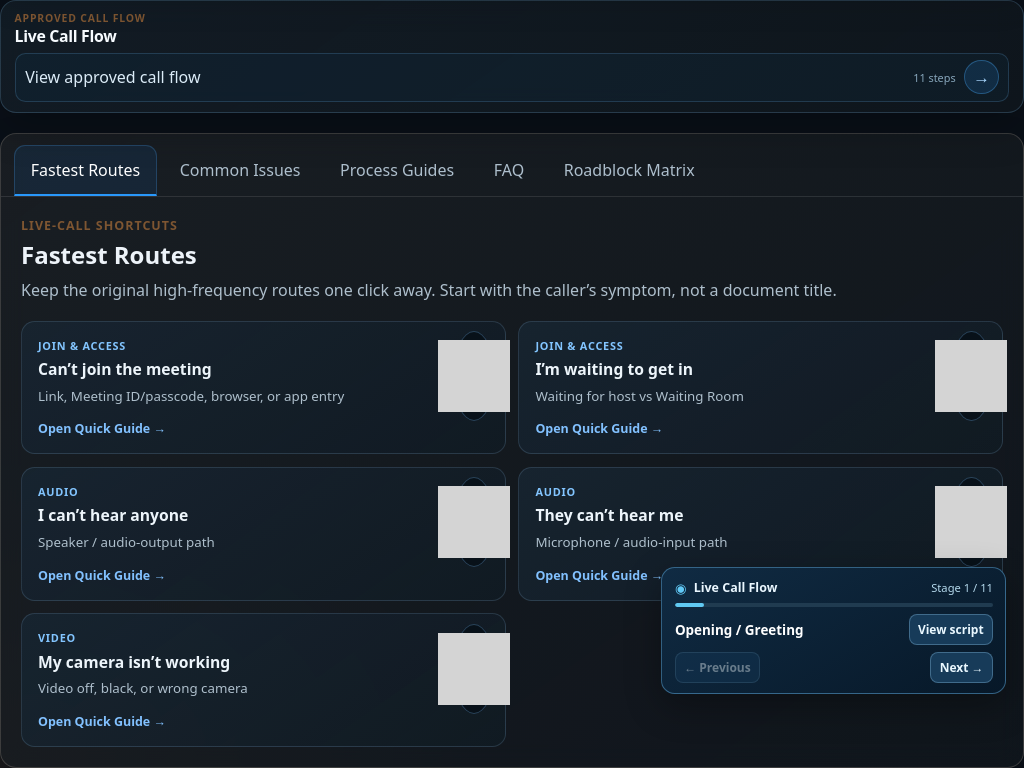
Test case: classifies cannot-hear as an audio-output symptom before assuming connection trouble
(page scrolled)
Click the button "I can’t hear anyone" at point(58, 492), box [21,467,506,601]
(page scrolled)
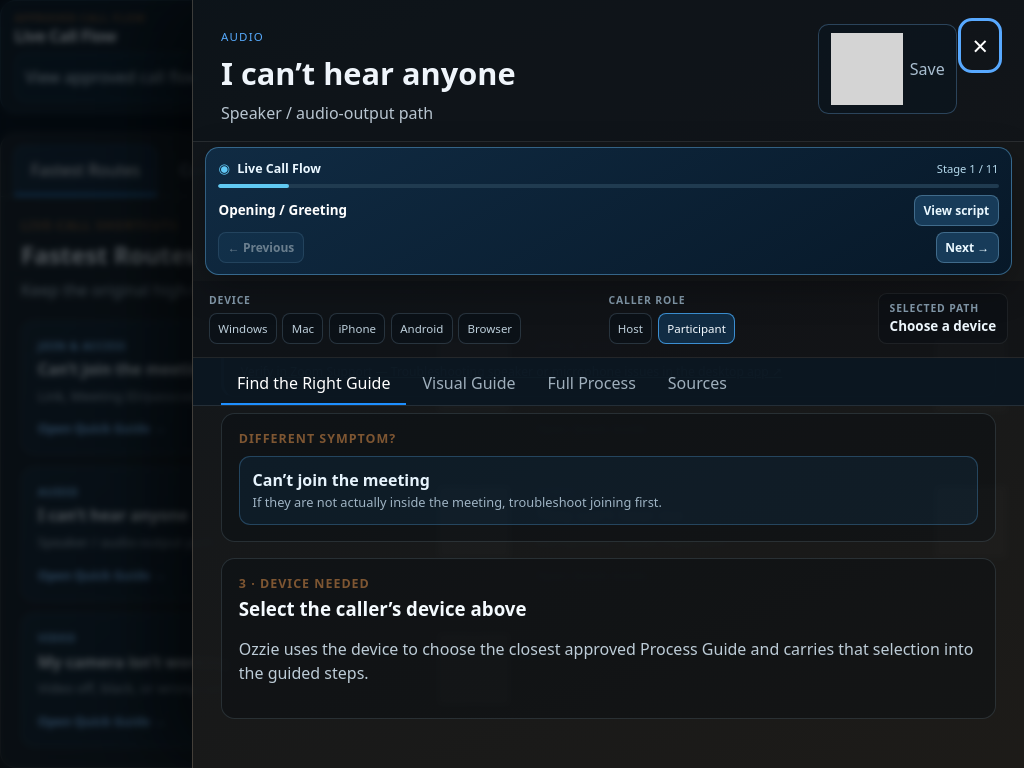
Check: the heading "Select the caller’s device above" is shown, box [239,596,526,621]
